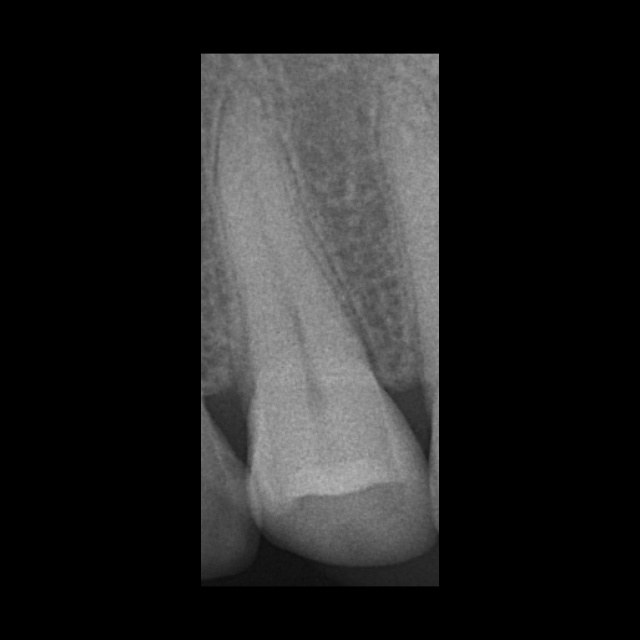tooth: (223, 127, 419, 526)
